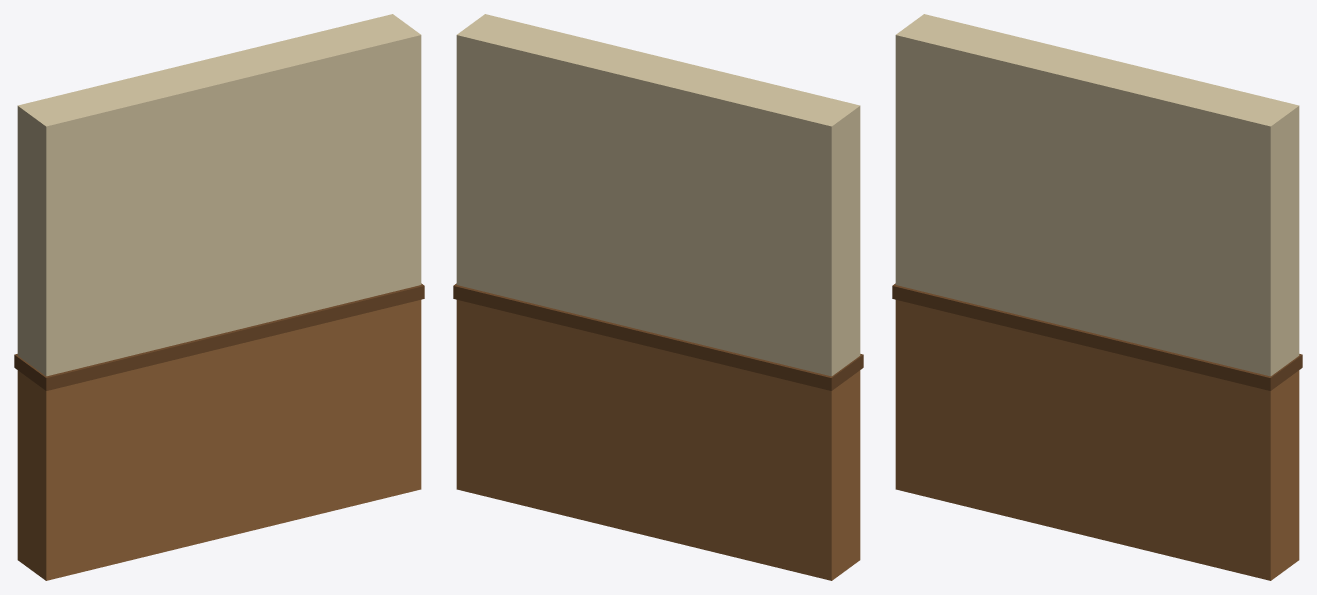
The model's file is wall_patch.glb.
3 renders of one model, left to right at view 1: azimuth 30°, elevation 25°; view 2: azimuth 150°, elevation 25°; view 3: azimuth 330°, elevation 25°, orthographic.
Parts seen in each view (by area): view 1: wall_patch; view 2: wall_patch; view 3: wall_patch.
Boxes of the visible parts, left/top/right/bottom form: wall_patch: left=14, top=14, right=424, bottom=580; wall_patch: left=453, top=14, right=863, bottom=580; wall_patch: left=892, top=14, right=1302, bottom=580.
Size of the model in its own units: 2.44 by 2.8 by 0.36.
Materials: 1 (1 with a texture image).
